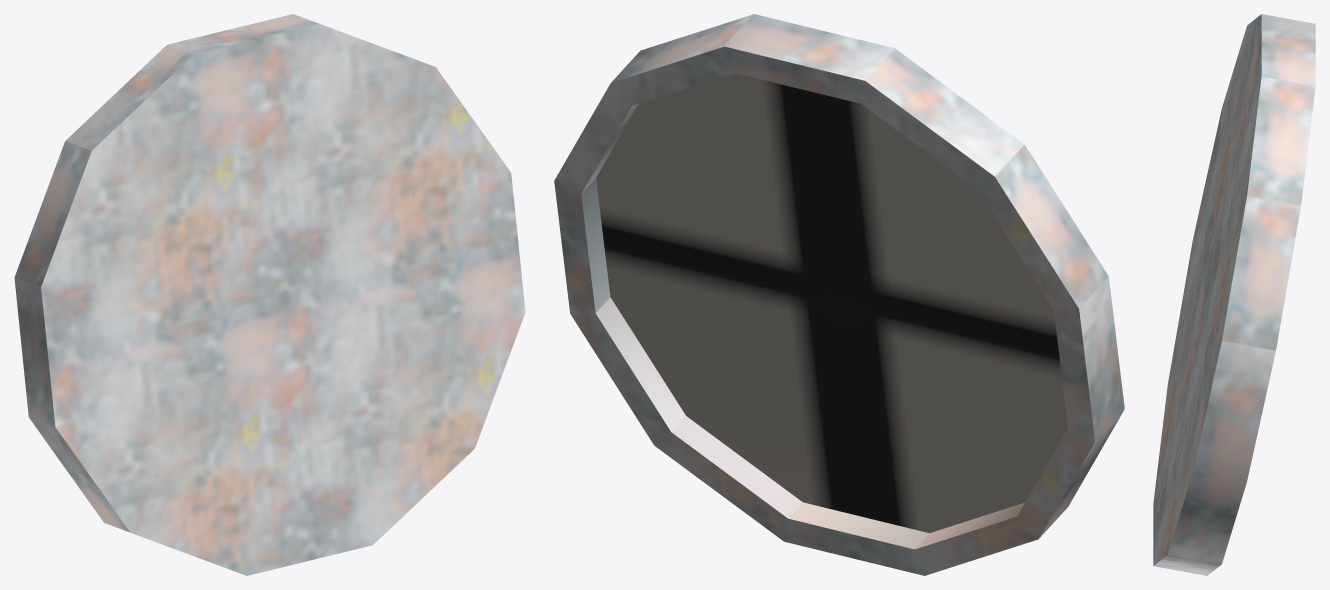
The model's file is round_ceiling_light.fbx.
3 renders of one model, left to right at view 1: azimuth 30°, elevation 25°; view 2: azimuth 150°, elevation 25°; view 3: azimuth 270°, elevation 25°, orthographic. The views are drawn at different scales.
Visible parts, largest first — view 1: Corrugated Iron 3 Undamaged Mesh (1); view 2: floor_tile Mesh (1), Corrugated Iron 3 Undamaged Mesh (1); view 3: Corrugated Iron 3 Undamaged Mesh (1).
Part boxes in pixels (x1=…): Corrugated Iron 3 Undamaged Mesh (1): x1=14, y1=14, x2=525, y2=575; floor_tile Mesh (1): x1=596, y1=73, x2=1067, y2=533; Corrugated Iron 3 Undamaged Mesh (1): x1=554, y1=14, x2=1124, y2=575; Corrugated Iron 3 Undamaged Mesh (1): x1=1153, y1=14, x2=1315, y2=575.
Bounding box in the file's own units: 21.67 × 21.67 × 6.38.
